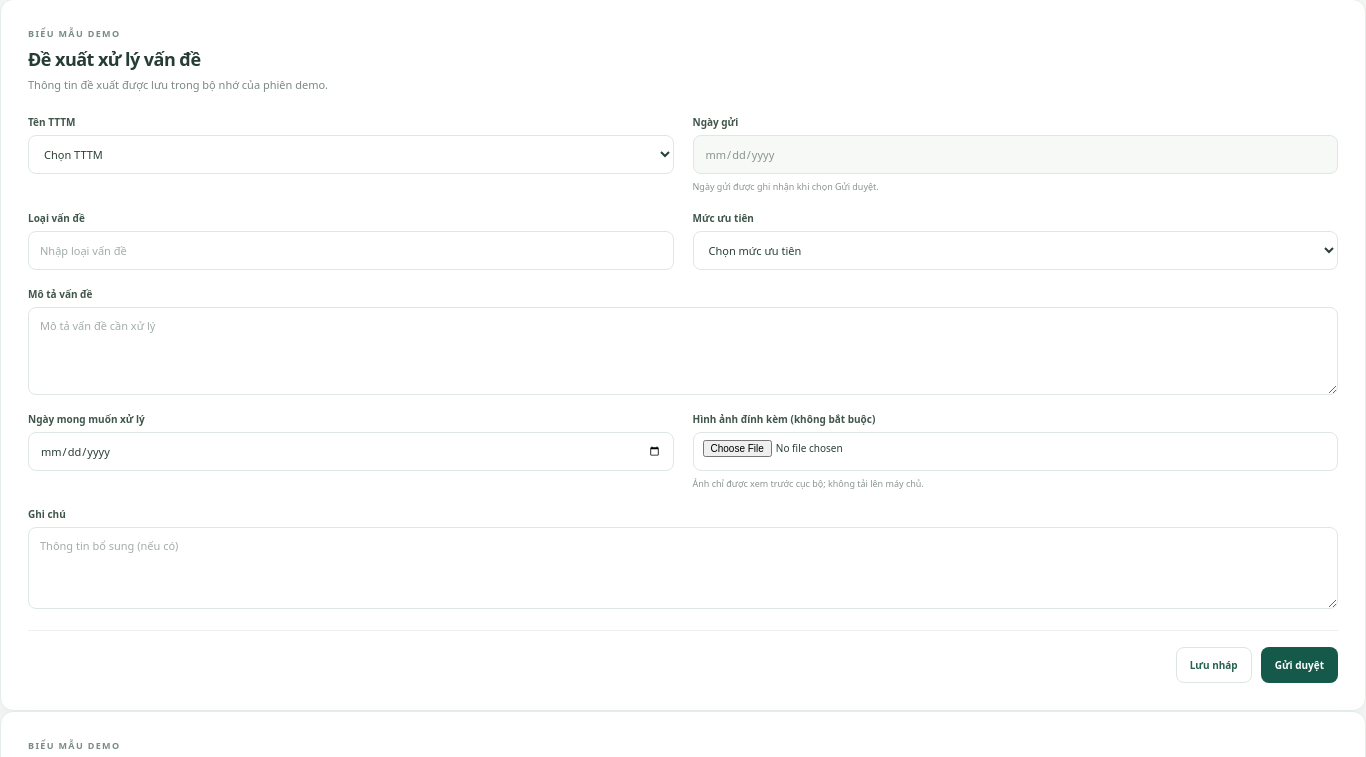
Test case: Đề xuất xử lý vấn đề › TC02: báo lỗi tiếng Việt, không gửi dữ liệu thiếu nhưng vẫn lưu được nháp không ngày gửi
Click the button "Gửi duyệt". click: (1299, 665)
box: [1261, 647, 1338, 683]
(page scrolled)
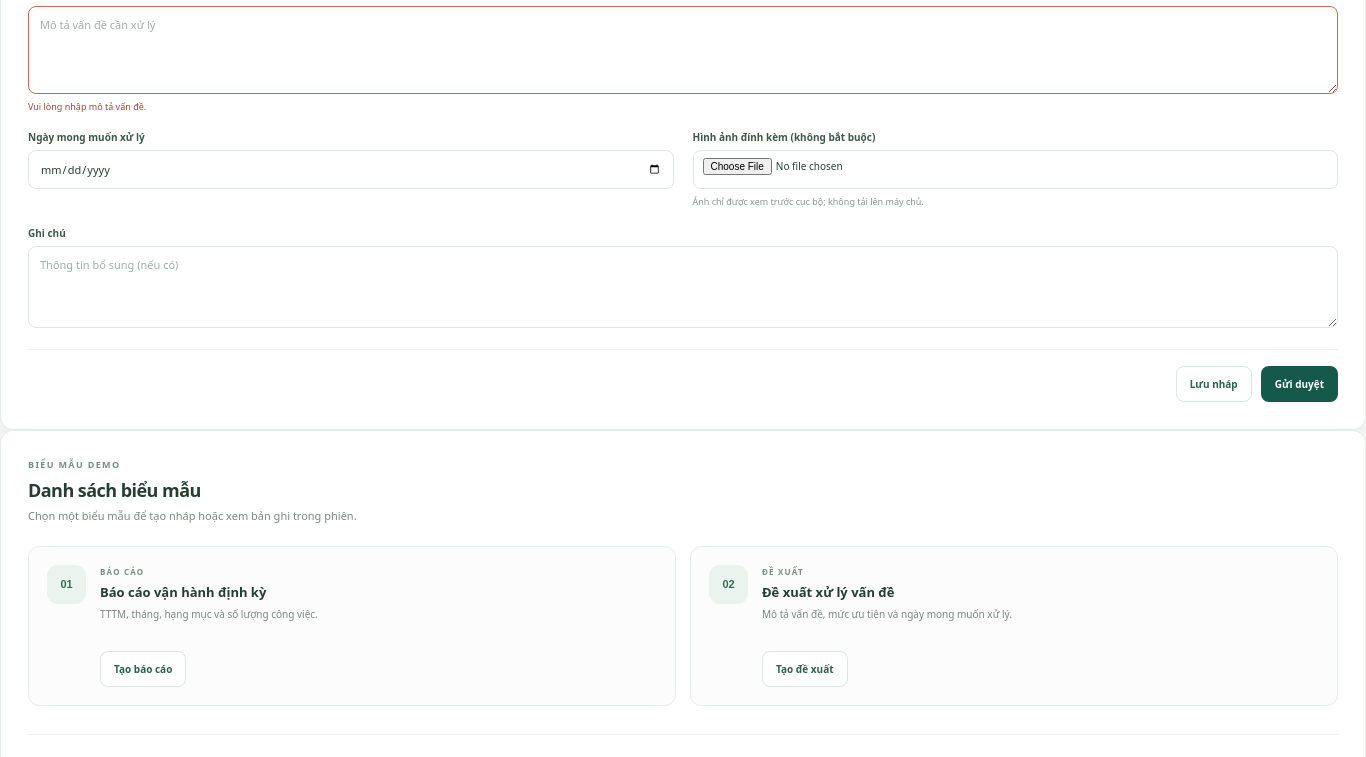
Expected: the text "Vui lòng nhập mô tả vấn đề." is shown, [28, 100, 146, 113]
Click the button "Lưu nháp". click: (1214, 384)
box: [1176, 366, 1252, 402]
(page scrolled)
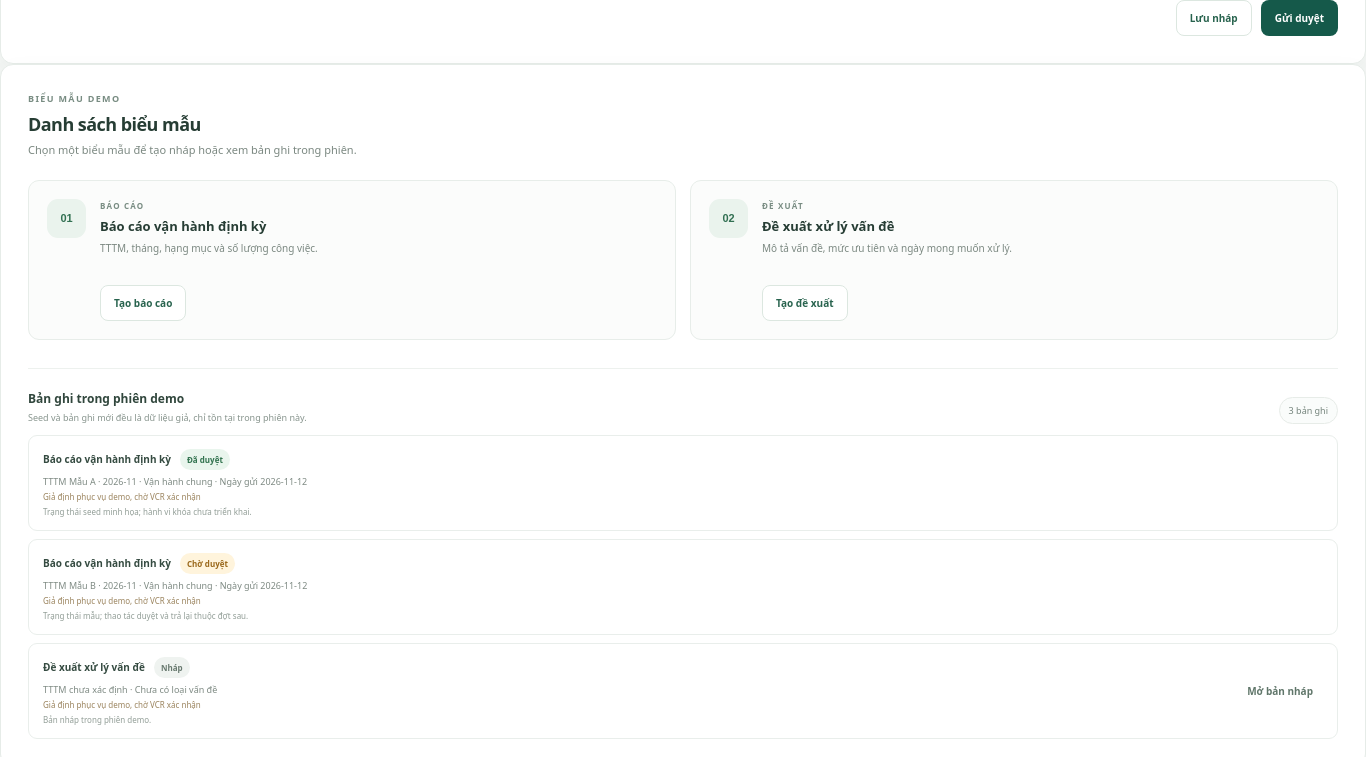
Expected: the text "Nháp" is shown, [154, 657, 190, 678]
Expected: the text "3 bản ghi" is shown, [1279, 397, 1338, 424]
